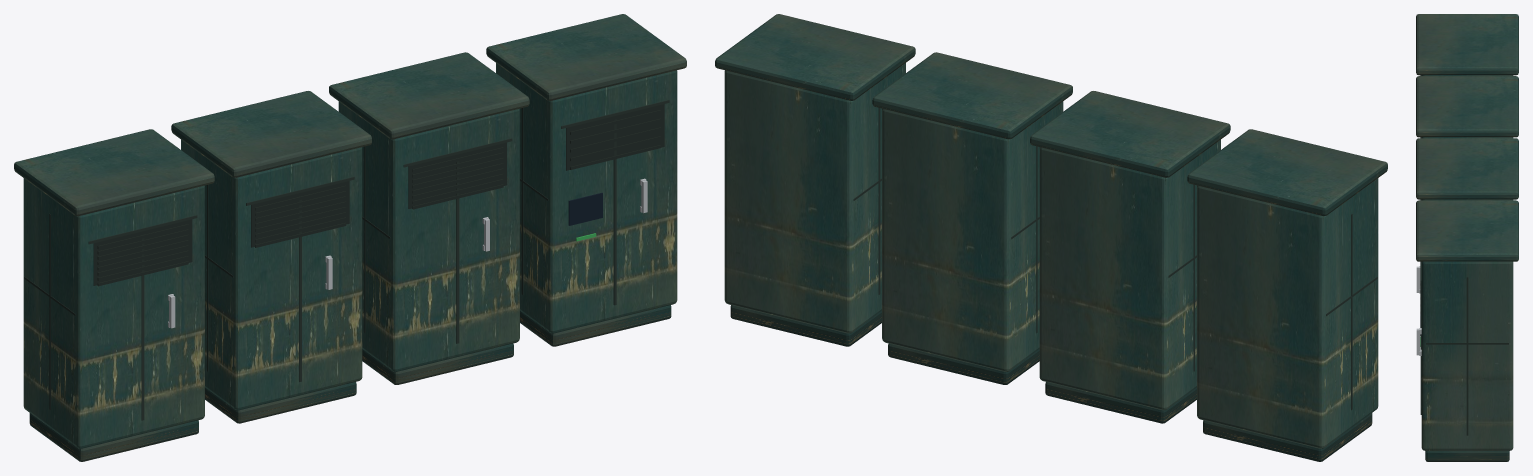
The model's file is st-cabinet.glb.
The picture shows the model from 3 angles, left to right: view 1: azimuth 30°, elevation 25°; view 2: azimuth 150°, elevation 25°; view 3: azimuth 270°, elevation 25°; orthographic projection. The views are drawn at different scales.
Visible parts, largest first — view 1: Battery_Cabinet_1, Battery_Cabinet_3, Battery_Cabinet_2, PCS_Cabinet, Battery_Cabinet_3_TopCap, PCS_Cabinet_TopCap, Battery_Cabinet_1_TopCap, Battery_Cabinet_2_TopCap, PCS_Cabinet_GrilleBack, Battery_Cabinet_1_GrilleBack, Battery_Cabinet_2_GrilleBack, Battery_Cabinet_3_GrilleBack (+5 smaller); view 2: Battery_Cabinet_1, Battery_Cabinet_3, Battery_Cabinet_2, PCS_Cabinet, Battery_Cabinet_3_TopCap, PCS_Cabinet_TopCap, Battery_Cabinet_1_TopCap, Battery_Cabinet_2_TopCap, Battery_Cabinet_1_Kick, PCS_Cabinet_Kick, Battery_Cabinet_2_Kick, Battery_Cabinet_3_Kick; view 3: PCS_Cabinet, Battery_Cabinet_3_TopCap, Battery_Cabinet_1_TopCap, Battery_Cabinet_2_TopCap, PCS_Cabinet_TopCap, PCS_Cabinet_Kick, PCS_Cabinet_SideSeam_R, Battery_Cabinet_2, Battery_Cabinet_3, PCS_Cabinet_DoorSeam_V, PCS_Cabinet_SideSeamH_R, PCS_Cabinet_Handle.
Boxes of the visible parts, x1=… form: Battery_Cabinet_1: x1=23, y1=178, x2=204, y2=448; Battery_Cabinet_3: x1=338, y1=101, x2=519, y2=371; Battery_Cabinet_2: x1=181, y1=140, x2=362, y2=410; PCS_Cabinet: x1=496, y1=63, x2=677, y2=333; Battery_Cabinet_3_TopCap: x1=329, y1=52, x2=529, y2=139; PCS_Cabinet_TopCap: x1=486, y1=14, x2=686, y2=100; Battery_Cabinet_1_TopCap: x1=14, y1=129, x2=214, y2=216; Battery_Cabinet_2_TopCap: x1=171, y1=91, x2=371, y2=177; PCS_Cabinet_GrilleBack: x1=566, y1=104, x2=664, y2=170; Battery_Cabinet_1_GrilleBack: x1=93, y1=219, x2=192, y2=285; Battery_Cabinet_2_GrilleBack: x1=251, y1=181, x2=349, y2=247; Battery_Cabinet_3_GrilleBack: x1=408, y1=142, x2=506, y2=208; Battery_Cabinet_1: x1=1197, y1=178, x2=1378, y2=448; Battery_Cabinet_3: x1=882, y1=101, x2=1063, y2=371; Battery_Cabinet_2: x1=1039, y1=140, x2=1220, y2=410; PCS_Cabinet: x1=724, y1=63, x2=905, y2=333; Battery_Cabinet_3_TopCap: x1=872, y1=52, x2=1072, y2=139; PCS_Cabinet_TopCap: x1=715, y1=14, x2=915, y2=100; Battery_Cabinet_1_TopCap: x1=1187, y1=129, x2=1387, y2=216; Battery_Cabinet_2_TopCap: x1=1030, y1=91, x2=1230, y2=177; Battery_Cabinet_1_Kick: x1=1203, y1=413, x2=1372, y2=461; PCS_Cabinet_Kick: x1=730, y1=305, x2=881, y2=346; Battery_Cabinet_2_Kick: x1=1045, y1=382, x2=1196, y2=423; Battery_Cabinet_3_Kick: x1=888, y1=343, x2=1039, y2=384; PCS_Cabinet: x1=1421, y1=261, x2=1513, y2=450; Battery_Cabinet_3_TopCap: x1=1416, y1=138, x2=1518, y2=199; Battery_Cabinet_1_TopCap: x1=1416, y1=14, x2=1518, y2=75; Battery_Cabinet_2_TopCap: x1=1416, y1=76, x2=1518, y2=137; PCS_Cabinet_TopCap: x1=1416, y1=200, x2=1518, y2=261; PCS_Cabinet_Kick: x1=1425, y1=451, x2=1509, y2=461; PCS_Cabinet_SideSeam_R: x1=1466, y1=277, x2=1468, y2=435; Battery_Cabinet_2: x1=1421, y1=137, x2=1513, y2=138; Battery_Cabinet_3: x1=1422, y1=199, x2=1512, y2=200; PCS_Cabinet_DoorSeam_V: x1=1420, y1=314, x2=1421, y2=414; PCS_Cabinet_SideSeamH_R: x1=1426, y1=343, x2=1508, y2=344; PCS_Cabinet_Handle: x1=1416, y1=328, x2=1420, y2=355.
Bounding box in the file's own units: 6.22 × 2.55 × 1.12.
8 materials, 3 textured.
